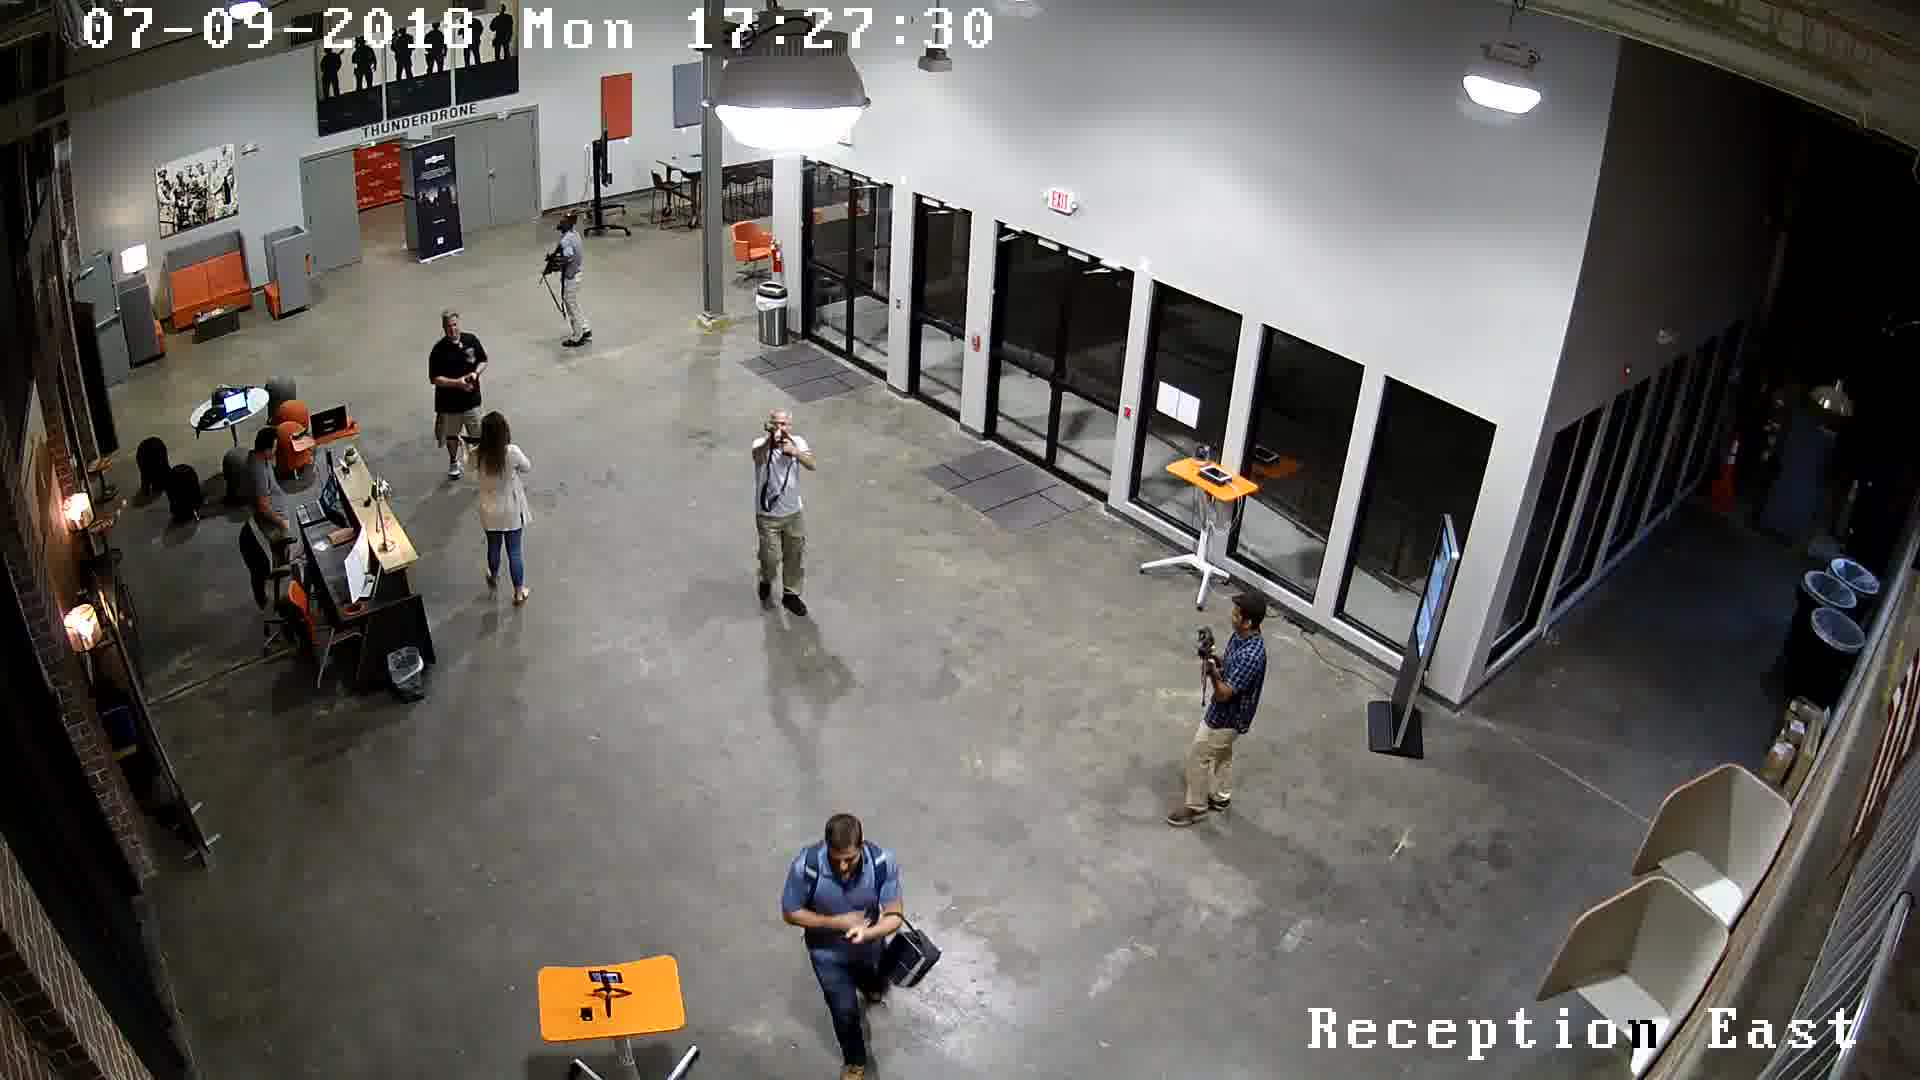pistol: (455, 368, 489, 394)
